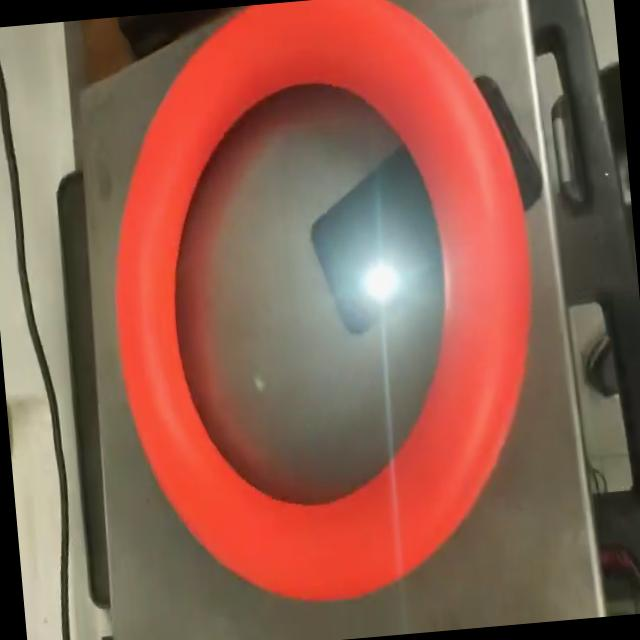note: (89, 0, 562, 619)
